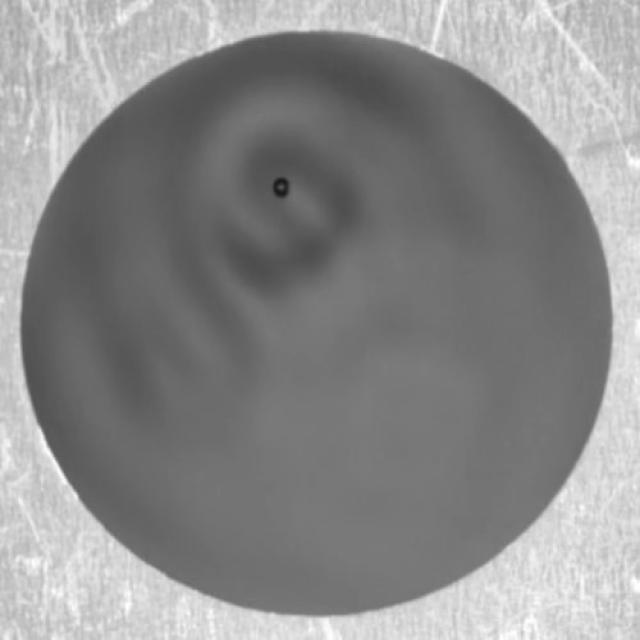droplet: (271, 176, 291, 200)
